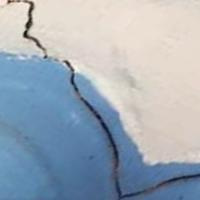crack: (9, 0, 199, 199)
